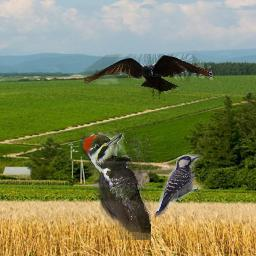Crow: (84, 54, 214, 99)
Woodpecker: (80, 132, 151, 240), (151, 152, 204, 220)
